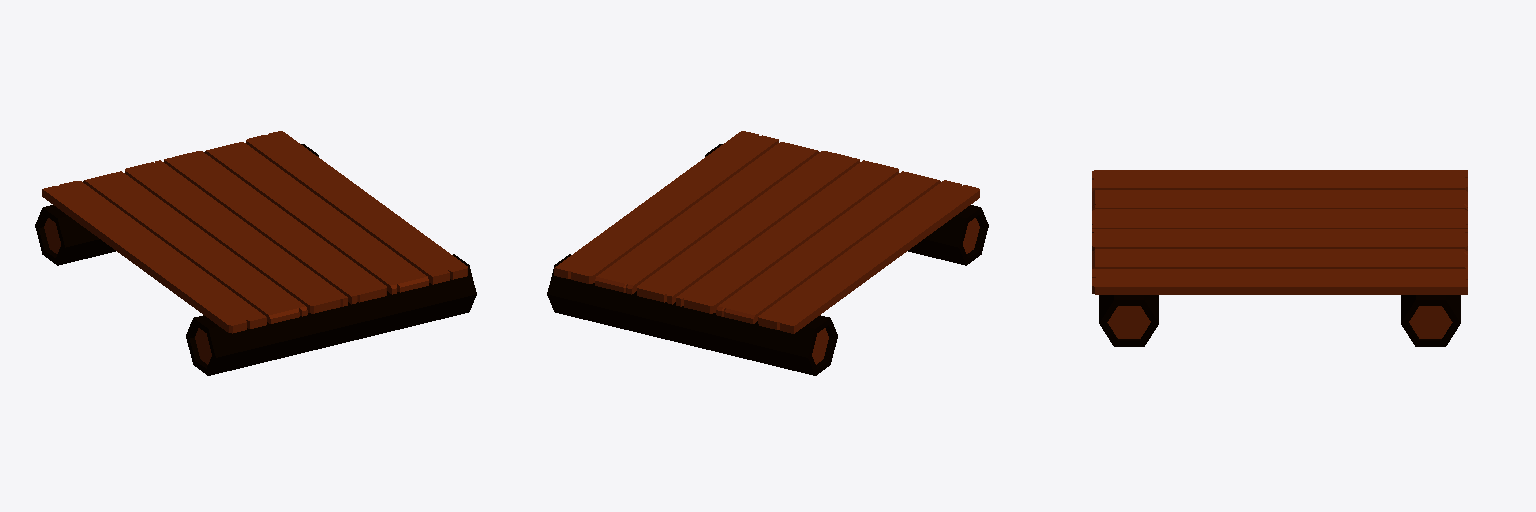
File: woodwall.obj
3 renders of one model, left to right at view 1: azimuth 30°, elevation 25°; view 2: azimuth 150°, elevation 25°; view 3: azimuth 270°, elevation 25°, orthographic.
Visible parts, largest first — view 1: Cylinder001_Mesh; view 2: Cylinder001_Mesh; view 3: Cylinder001_Mesh.
Part boxes in pixels (x1,y1,x2,y2): Cylinder001_Mesh: (35,131,476,375); Cylinder001_Mesh: (547,131,988,375); Cylinder001_Mesh: (1092,170,1467,346).
Size of the model in its own units: 2.54 by 0.5131 by 3.16.